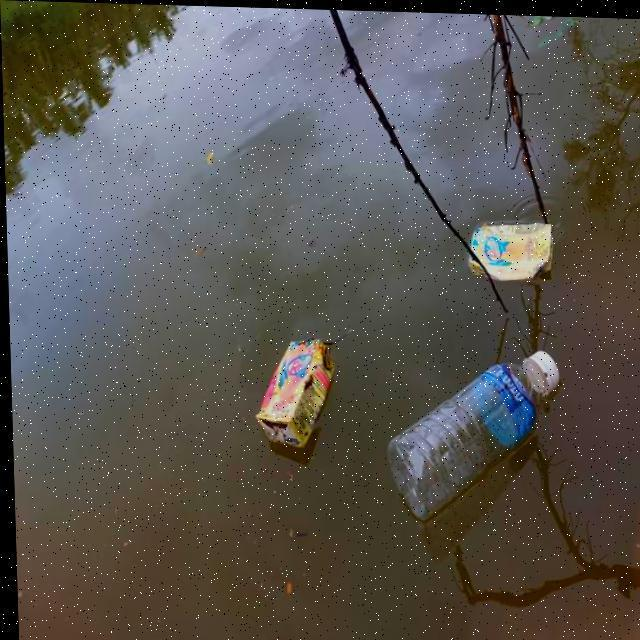Bottle: (379, 348, 569, 528)
Box: (252, 331, 341, 460), (460, 217, 562, 291)
